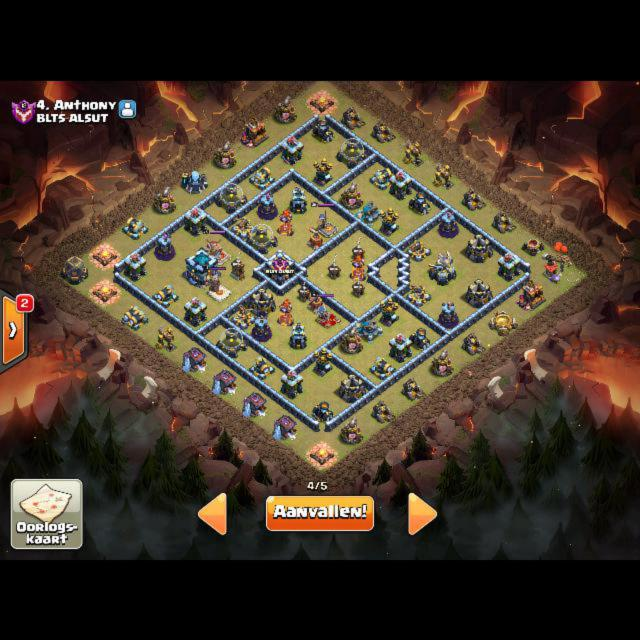AD: (312, 156, 332, 186), (379, 206, 399, 236), (379, 297, 399, 327), (312, 347, 332, 376)
AirSweeper: (306, 226, 325, 250), (307, 293, 326, 313)
BombTower: (290, 321, 306, 349), (290, 185, 306, 213)
Canon: (121, 305, 148, 329), (248, 166, 275, 190), (249, 355, 275, 379), (369, 357, 396, 380), (122, 216, 148, 239), (152, 284, 178, 307), (369, 167, 394, 190)
ClanCastle: (265, 250, 294, 284)
Eagle: (428, 250, 456, 285)
Inferno: (277, 209, 294, 236), (277, 299, 294, 326), (350, 253, 367, 279)
KingPad: (209, 247, 232, 264)
Mortar: (312, 119, 335, 142), (408, 191, 430, 215), (408, 327, 430, 350), (312, 400, 334, 422)
QueenPad: (316, 310, 341, 328)
RcPad: (318, 221, 338, 236)
Scattershot: (354, 200, 382, 225), (354, 318, 383, 342)
TH13: (185, 246, 218, 286)
WardenPad: (208, 283, 230, 299)
WizzTower: (251, 315, 271, 342), (438, 211, 458, 238), (155, 233, 175, 260), (258, 193, 277, 220), (439, 301, 458, 327)
Xbow: (230, 304, 256, 329), (405, 282, 431, 307), (405, 239, 431, 262), (231, 216, 256, 238)
